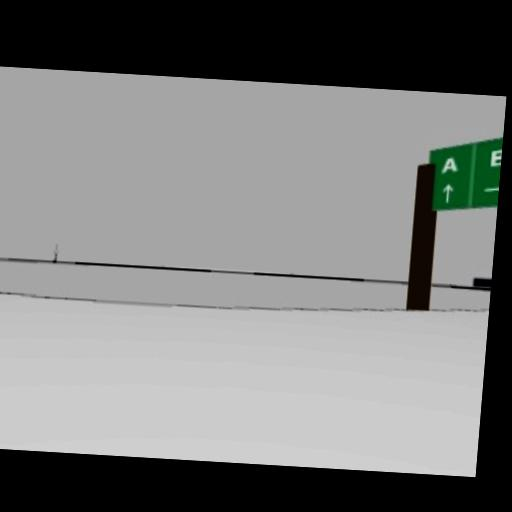A: (442, 154, 462, 174)
B: (489, 148, 502, 164)
Right: (478, 180, 500, 191)
Straight: (442, 183, 455, 202)
